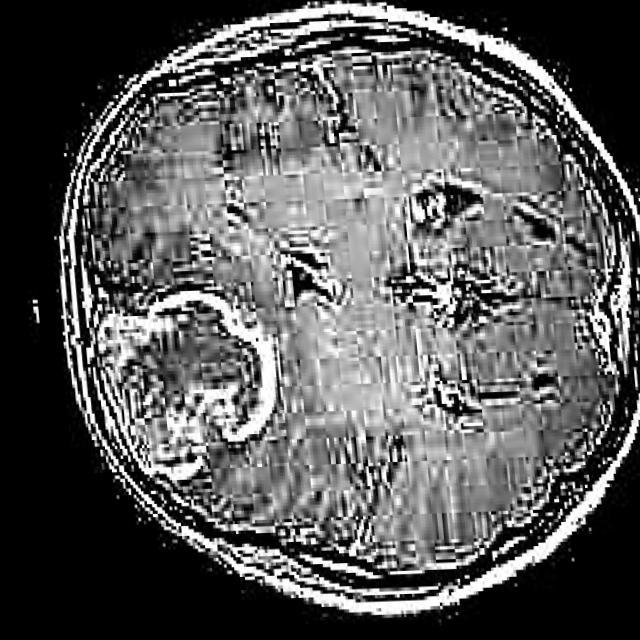Tumor: (87, 289, 271, 488)
